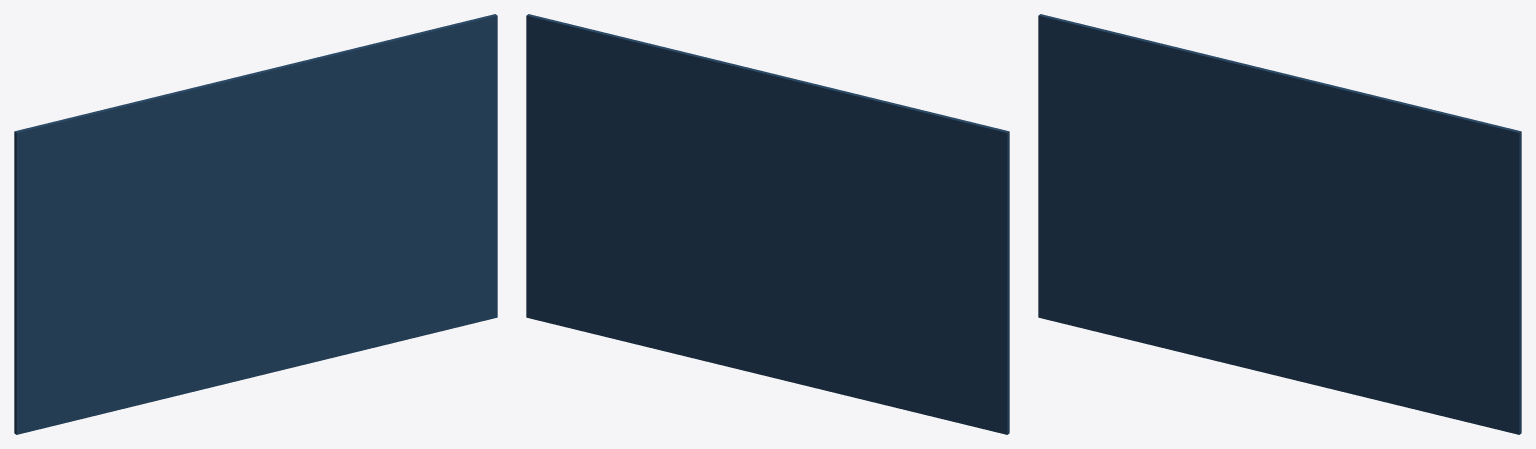
File: flag.glb
3 views of the same model, side by side, from view 1: azimuth 30°, elevation 25°; view 2: azimuth 150°, elevation 25°; view 3: azimuth 330°, elevation 25° (orthographic).
Visible parts, largest first — view 1: Flag; view 2: Flag; view 3: Flag.
Part boxes in pixels (box(x1,y1,x2,y2)): Flag: box(14, 14, 497, 434); Flag: box(526, 14, 1009, 434); Flag: box(1038, 14, 1521, 434).
Size of the model in its own units: 1 by 0.6 by 0.008.
